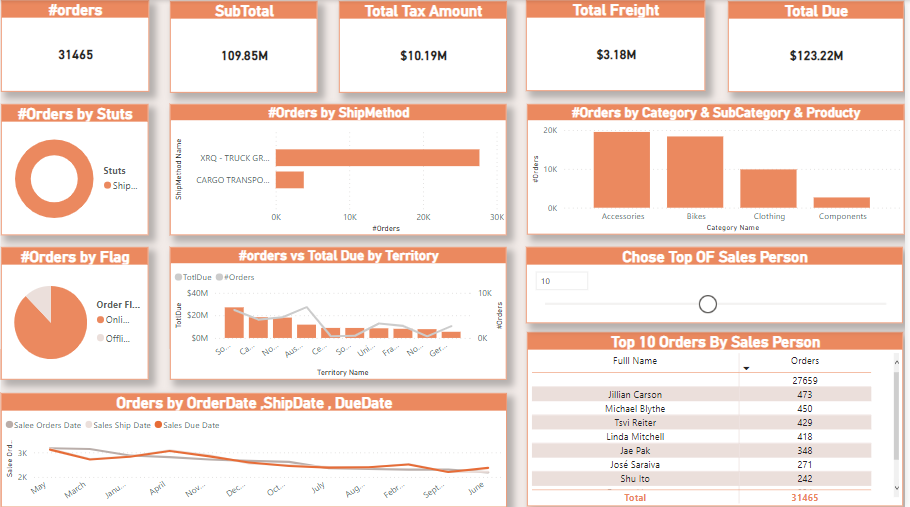

The page's visual inventory and layout, read from the dashboard file:
{"tool":"powerbi","page":{"name":"Sales","canvas":[1280,720],"ordinal":0},"visuals":[{"type":"card","title":"Total Due","fields":{"Values":["Sales Orders Detail.TotlDue"]},"box":[1030.6,1.4,249.4,129],"z":0},{"type":"card","title":"SubTotal","fields":{"Values":["Sales Orders Detail.totalSubTotal"]},"box":[239.4,1.4,209.3,130.4],"z":1000},{"type":"card","title":"#orders","fields":{"Values":["Sales Orders Detail.#Orders"]},"box":[0,0,209.8,130.4],"z":2000},{"type":"card","title":"Total Tax Amount","fields":{"Values":["Sales Orders Detail.TotlTax"]},"box":[479.1,1.4,238.1,130.4],"z":3000},{"type":"card","title":"Total Freight","fields":{"Values":["Sales Orders Detail.Total Freight"]},"box":[743.9,0,253.7,129],"z":4000},{"type":"donutChart","fields":{"Category":["Stuts.Stuts"],"Y":["Sales Orders Detail.#Orders"]},"box":[0,147.2,209.2,186.2],"z":5000},{"type":"clusteredBarChart","title":"#Orders by ShipMethod ","fields":{"Category":["ShipMethod.ShipMethod Name"],"Y":["Sales Orders Detail.#Orders"]},"box":[239.4,147.6,477.3,186.3],"z":6000},{"type":"clusteredColumnChart","title":"#Orders by Category  & SubCategory & Producty","fields":{"Category":["Product.Category Name Hierarchy.Category Name","Product.Category Name Hierarchy.SubCategory Name","Product.Category Name Hierarchy.Prodcut Name"],"Y":["Sales Orders Detail.#Orders"]},"box":[745.1,148,534.9,185],"z":7000},{"type":"pieChart","title":"#Orders by Flag","fields":{"Y":["Sales Orders Detail.#Orders"],"Category":["Sales Orders Detail.Order Flag"]},"box":[0,349.7,209.3,187.8],"z":8000},{"type":"lineStackedColumnComboChart","title":"#orders vs Total Due by Territory","fields":{"Category":["SalesTerritory.Territory Name"],"Y":["Measures Table.TotlDue"],"Y2":["Measures Table.#Orders"]},"box":[239.4,349.7,477.3,187.8],"z":9000},{"type":"tableEx","fields":{"Values":["Sales vSalesPerson.Fulll Name","Sales Orders Detail.Top N Sales Person"]},"box":[745.1,471,533.2,247.3],"z":10000},{"type":"lineChart","title":" Orders by OrderDate ,ShipDate , DueDate","fields":{"Y":["Sales Orders Detail.#Orders","Sales Orders Detail.Sales Ship Date","Sales Orders Detail.Sales Due Date"],"Category":["Dates.Year Hierarchy.Year","Dates.Year Hierarchy.Month","Dates.Year Hierarchy.Day"]},"box":[0,557.6,716.7,162],"z":11000},{"type":"slicer","title":"Chose Top OF Sales Person ","fields":{"Values":["TopN.TopN"]},"box":[744.1,350.1,534.3,107.7],"z":12000}]}

Visuals, with their boxes in screenshot pixels (x1, y1, x2, y2), scaled from the page's 1280x720 canvas onto the 910x507 screenshot:
"Total Due" card: 733,1,909,92
"SubTotal" card: 170,1,319,93
"#orders" card: 0,0,149,92
"Total Tax Amount" card: 341,1,510,93
"Total Freight" card: 529,0,709,91
donutChart - Stuts.Stuts x Sales Orders Detail.#Orders: 0,104,149,235
"#Orders by ShipMethod " clusteredBarChart: 170,104,510,235
"#Orders by Category  & SubCategory & Producty" clusteredColumnChart: 530,104,909,234
"#Orders by Flag" pieChart: 0,246,149,378
"#orders vs Total Due by Territory" lineStackedColumnComboChart: 170,246,510,378
tableEx - Sales vSalesPerson.Fulll Name x Sales Orders Detail.Top N Sales Person: 530,332,909,506
" Orders by OrderDate ,ShipDate , DueDate" lineChart: 0,393,510,506
"Chose Top OF Sales Person " slicer: 529,247,909,322
